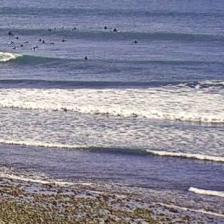surfer: (84, 55, 88, 60), (113, 28, 118, 32), (12, 46, 18, 49), (134, 40, 138, 44), (42, 40, 46, 44), (61, 39, 66, 42), (72, 28, 77, 31), (104, 26, 108, 29), (39, 38, 42, 42), (20, 44, 24, 47), (26, 40, 30, 43), (8, 31, 11, 35), (48, 28, 51, 31), (16, 36, 19, 39), (11, 41, 14, 44), (34, 46, 38, 48), (51, 43, 54, 45), (62, 27, 64, 29), (54, 28, 56, 30)
